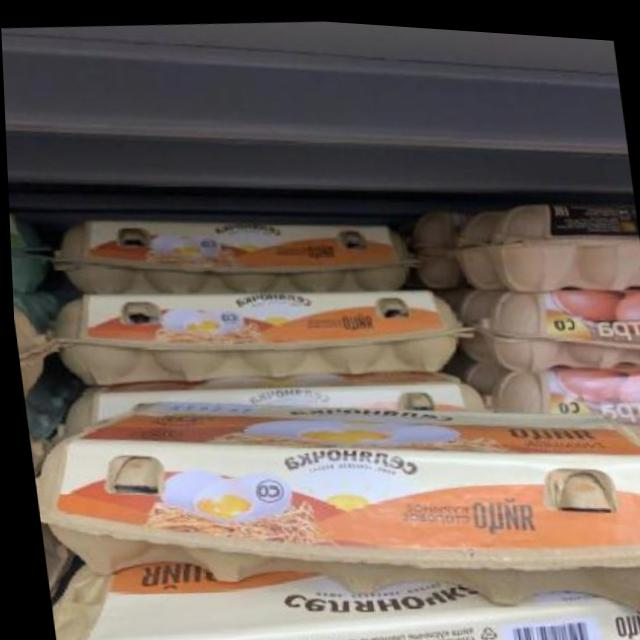Egg: (18, 342, 640, 640), (43, 255, 477, 408), (46, 187, 419, 316), (477, 175, 640, 293), (487, 264, 640, 373), (476, 346, 640, 431)
